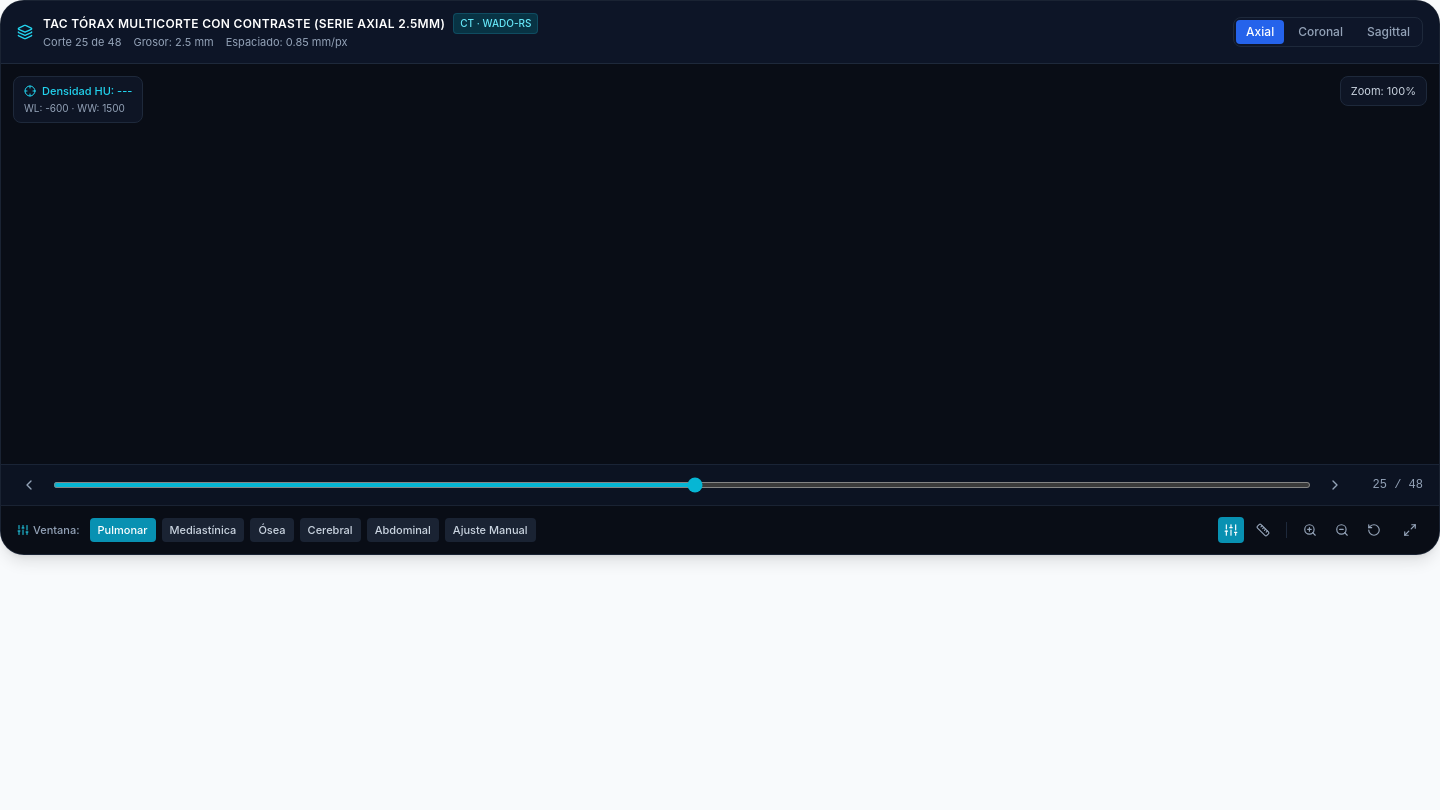
Test: Suite de Pruebas: Visor Diagnóstico DICOM / PACS / WADO-RS (DicomStudyViewer - Ateneo+) › activa la herramienta Caliper para medición de distancias anatómicas
Click the button named "herramienta caliper": (1263, 530) [1250,516,1276,542]
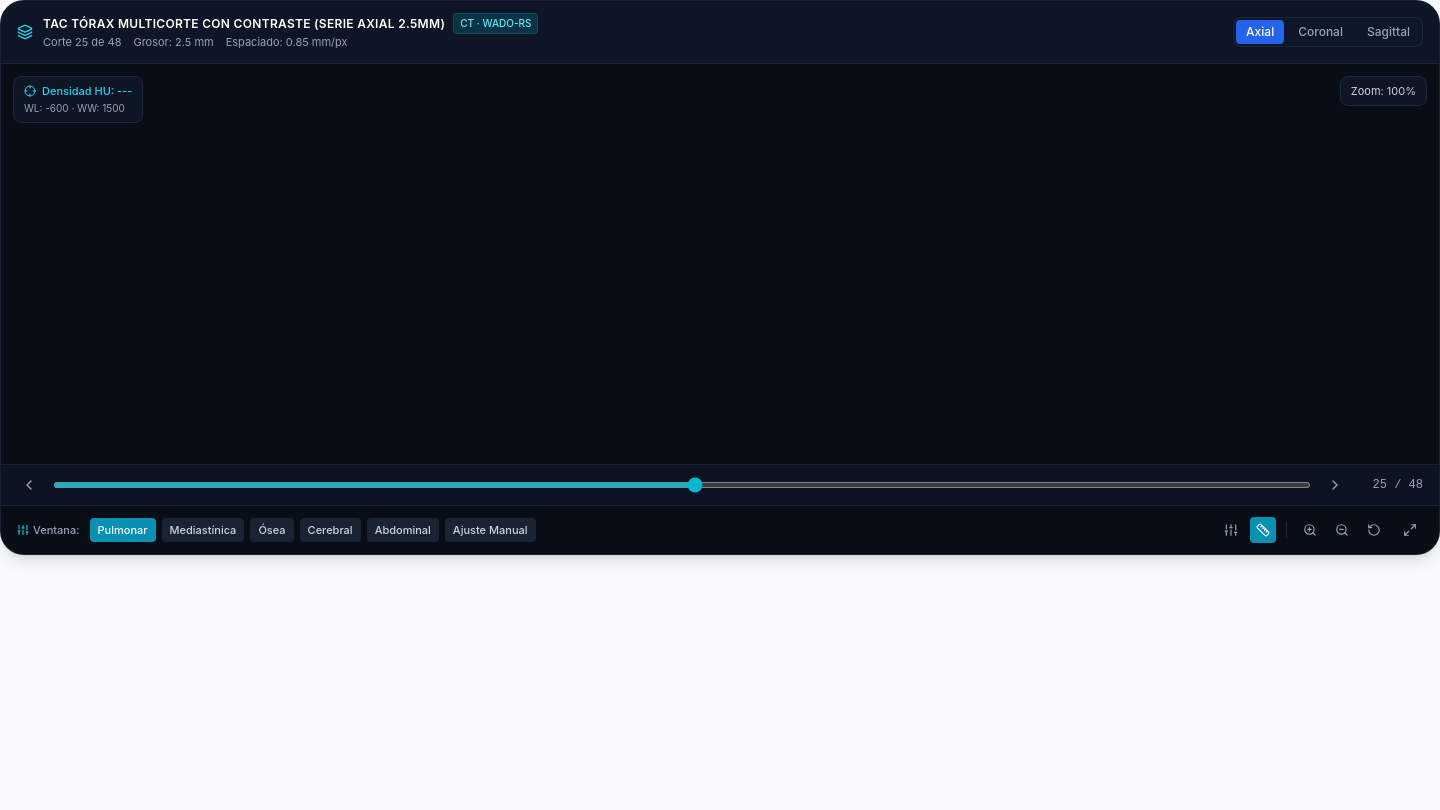
Check: the button named "herramienta caliper" has class "bg-cyan-600", box [1250,516,1276,542]
Press the mouse on the drawing with test id "dicom-canvas": (720, 264) [440,64,1000,464]
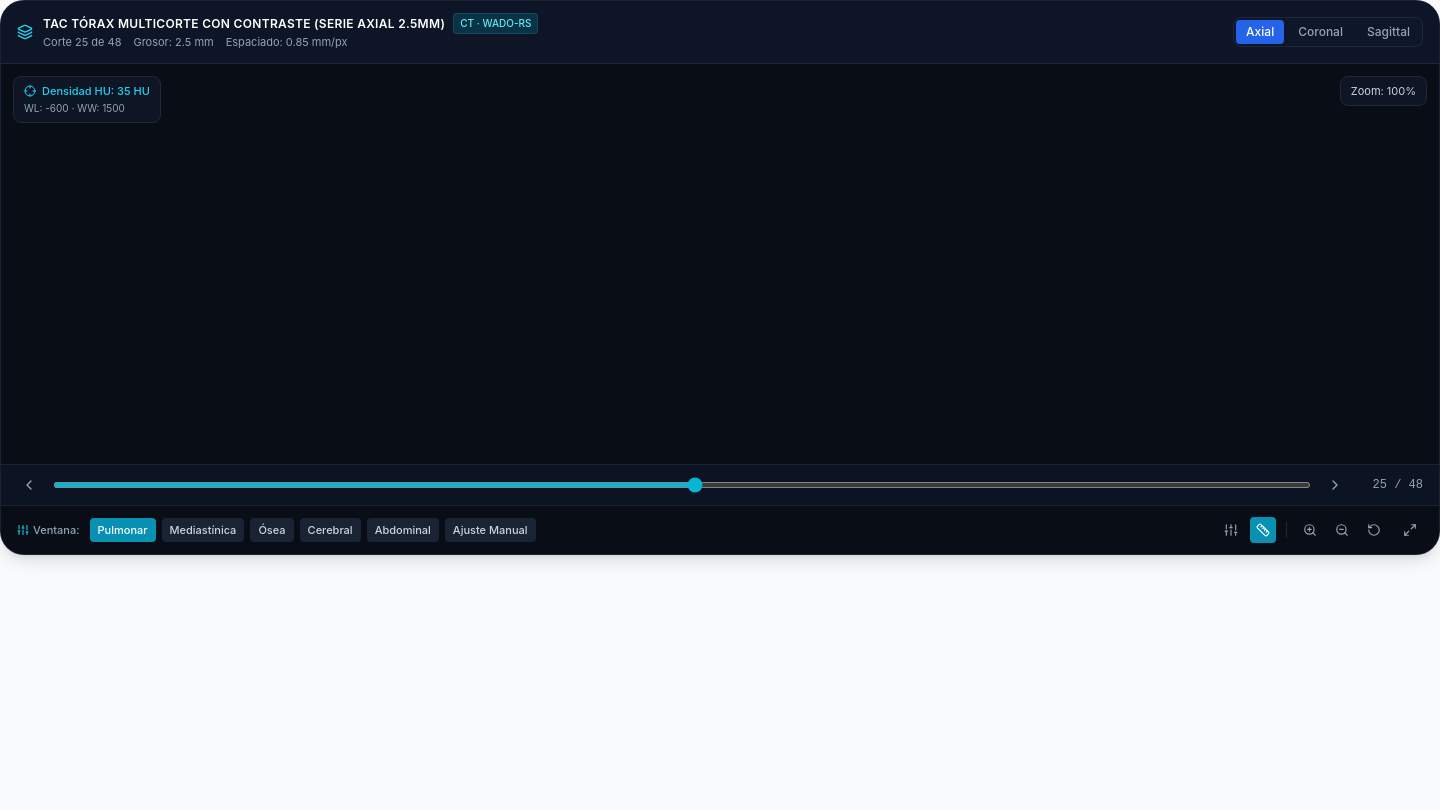
Press the mouse on the drawing with test id "dicom-canvas": (720, 264) [440,64,1000,464]
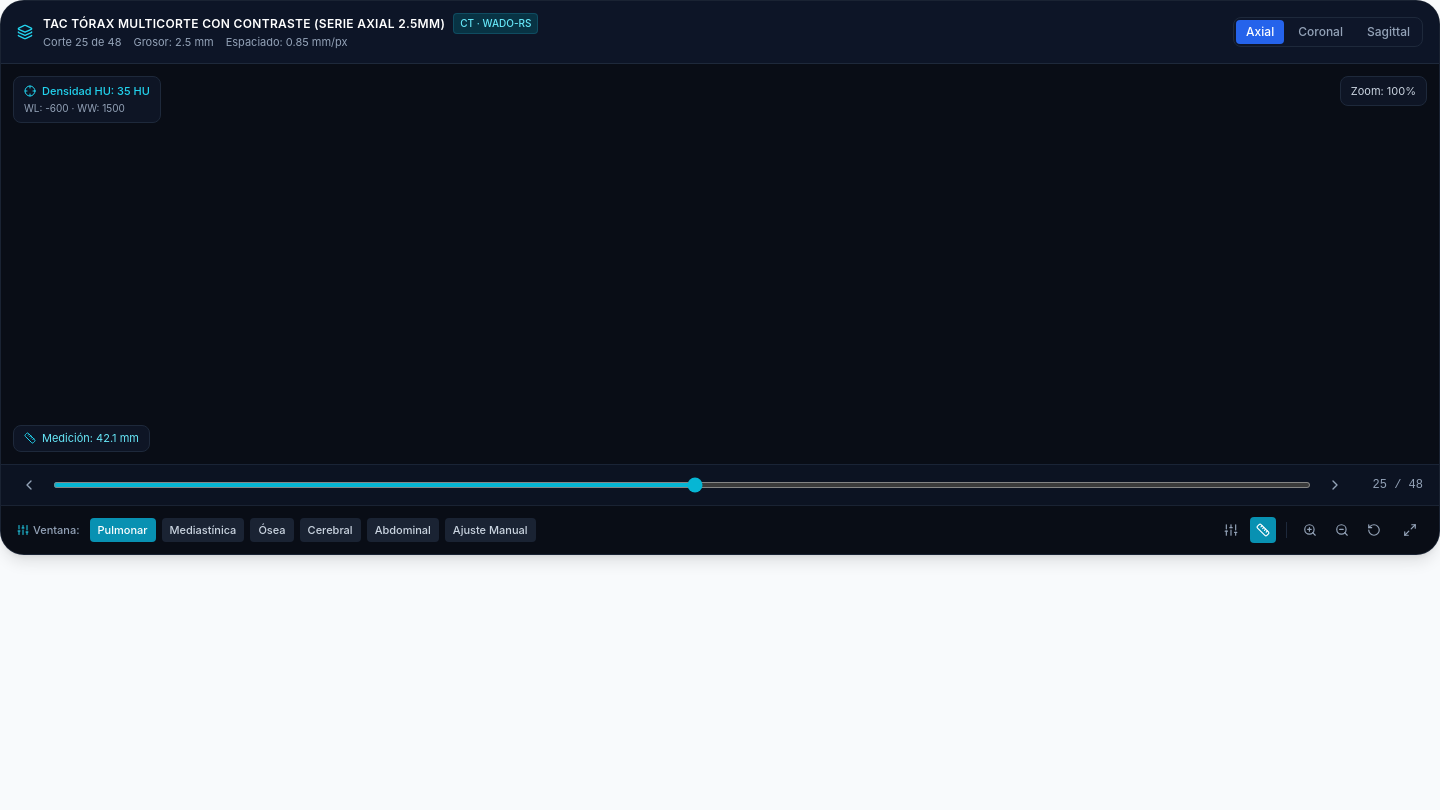
Check: the text "Medición: 42.1 mm" is shown, box [42,430,139,446]
